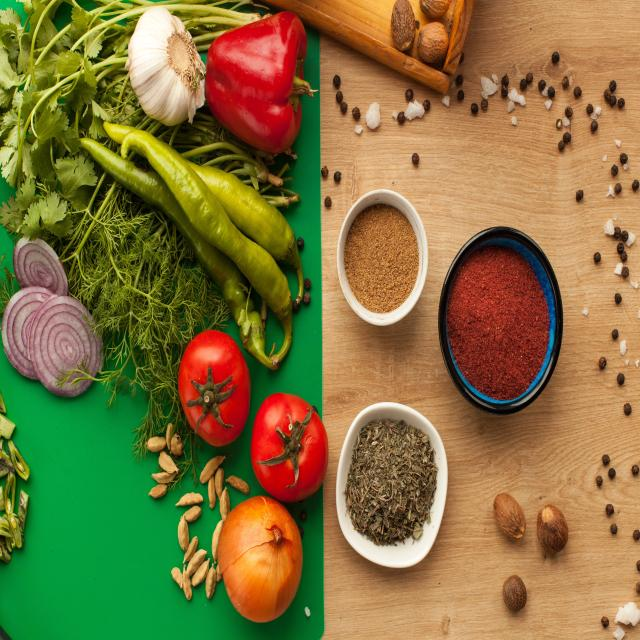bell_pepper: (204, 7, 317, 152)
garlic: (129, 9, 210, 133)
onion: (4, 235, 109, 417)
tomato: (176, 325, 245, 447), (258, 388, 328, 504)
